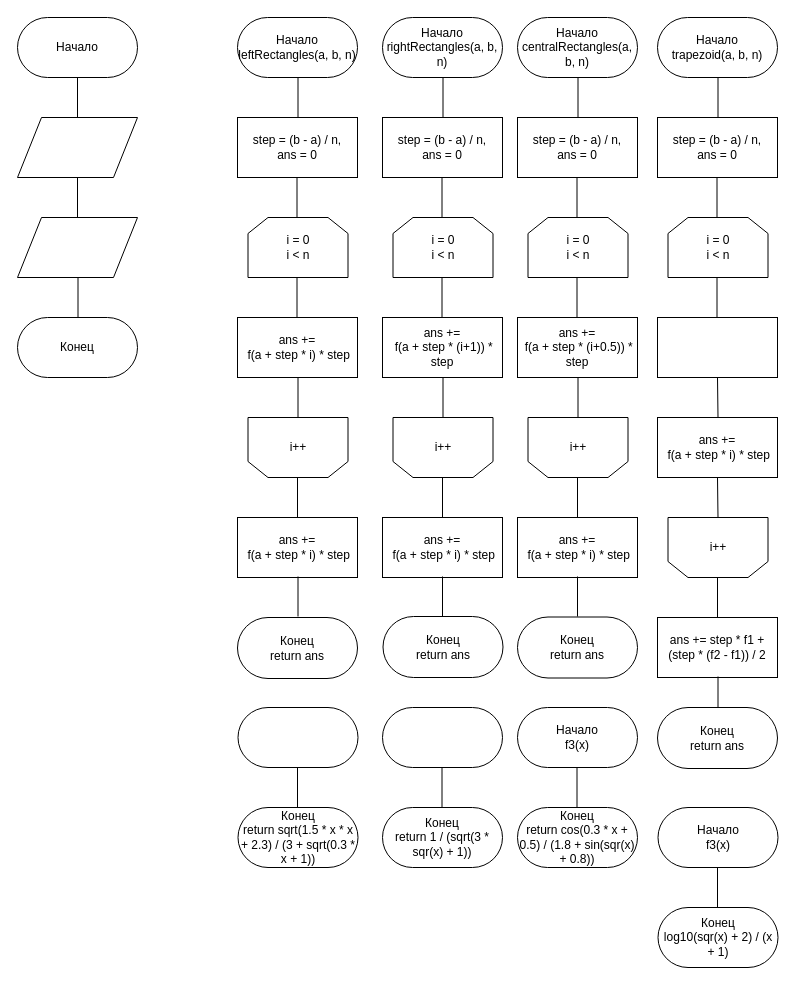
Image size: 796x985. Some labels were removed from this diagram. Each missing label, with the centre of its shape:
"f1 = f(a + step * i), f2 = f(a + step * (i+1))" goes at (717,347).
"Ввод a, b, n" goes at (77,147).
"Вывод integrate(a, b, n)" goes at (77,247).
"Начало f1(x)" goes at (297,737).
"Начало f2(x)" goes at (442,737).
